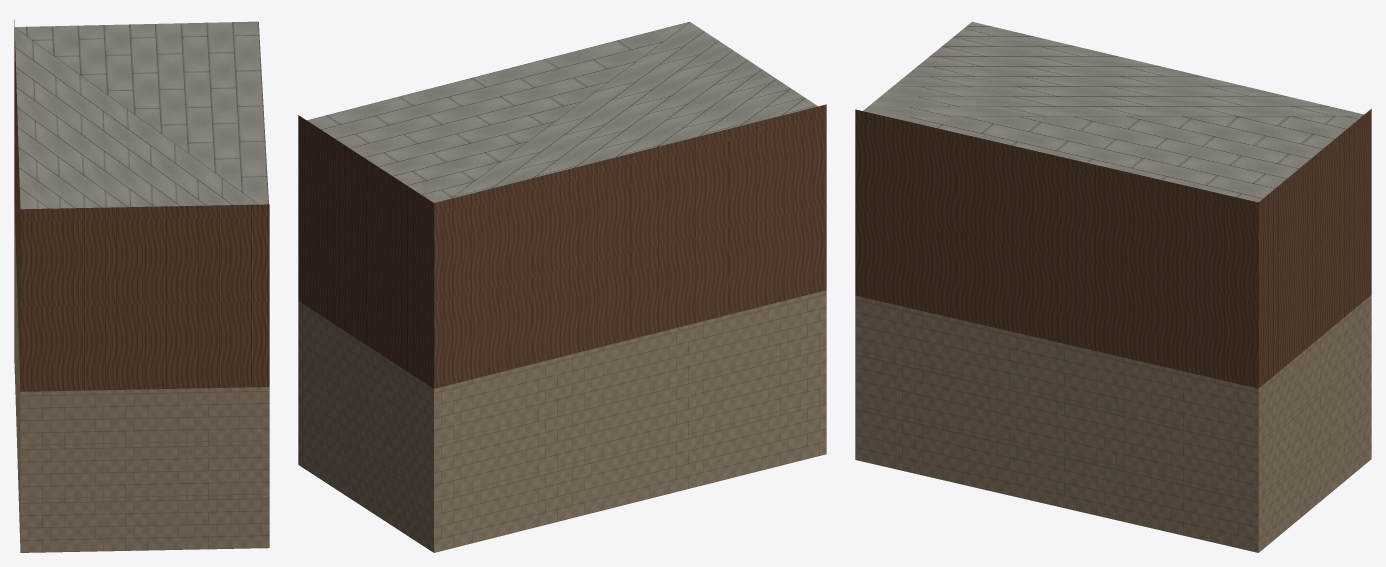
The model's file is bld_c32_-40_456.gltf.
The picture shows the model from 3 angles, left to right: view 1: azimuth 30°, elevation 25°; view 2: azimuth 150°, elevation 25°; view 3: azimuth 270°, elevation 25°; orthographic projection.
Parts seen in each view (by area): view 1: bld_c32_-40_456; view 2: bld_c32_-40_456; view 3: bld_c32_-40_456.
Boxes of the visible parts, box(x1,y1,x2,y2) form: bld_c32_-40_456: box(14, 19, 269, 552); bld_c32_-40_456: box(298, 21, 826, 552); bld_c32_-40_456: box(855, 21, 1371, 552).
Bounding box in the file's own units: 12.55 × 10.88 × 14.53.
4 materials, 4 textured.
